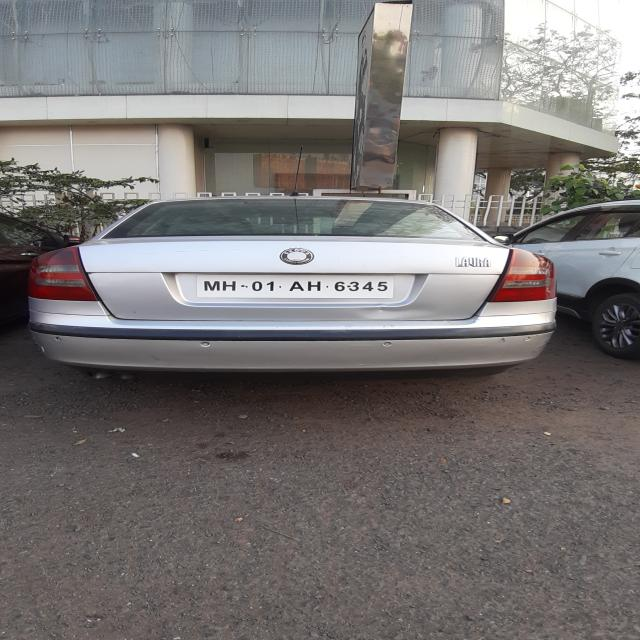Number-Plate: (196, 274, 394, 298)
